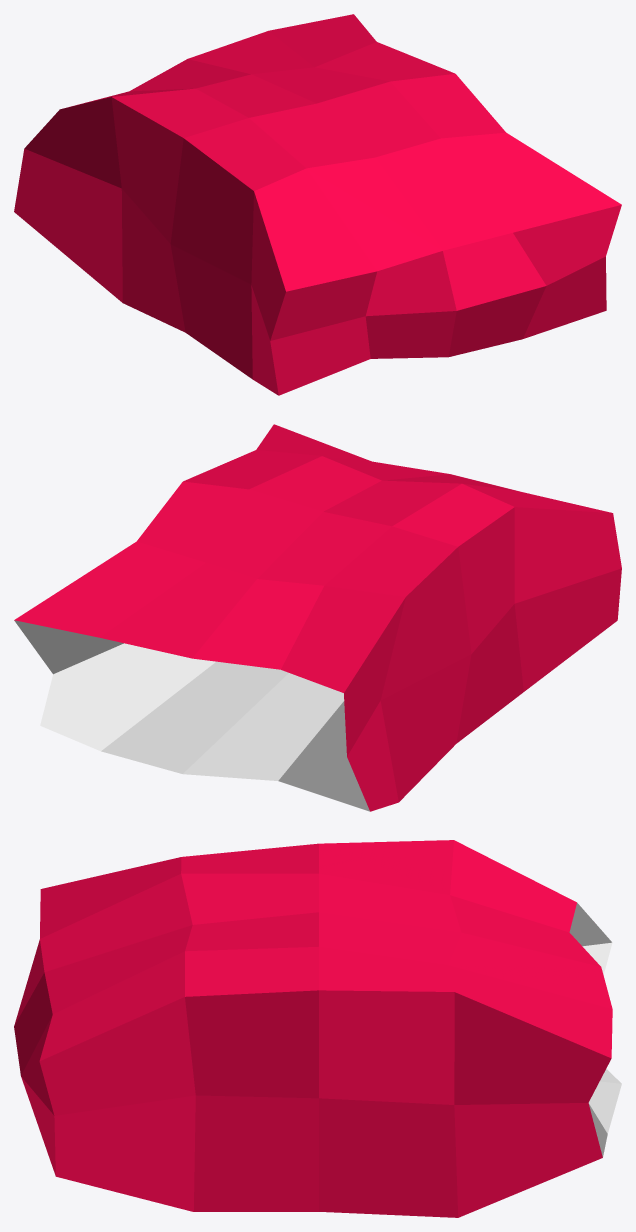
Rendered from Bolsa Papitas.fbx.
3 renders of one model, top to bottom at view 1: azimuth 30°, elevation 25°; view 2: azimuth 150°, elevation 25°; view 3: azimuth 270°, elevation 25°, orthographic. The views are drawn at different scales.
Parts seen in each view (by area): view 1: Bolsa Papitas; view 2: Bolsa Papitas; view 3: Bolsa Papitas.
Part boxes in pixels (left/top/right/bottom): Bolsa Papitas: left=14, top=14, right=621, bottom=395; Bolsa Papitas: left=14, top=424, right=621, bottom=811; Bolsa Papitas: left=14, top=840, right=621, bottom=1217.
Size of the model in its own units: 32.11 by 18.74 by 44.11.
